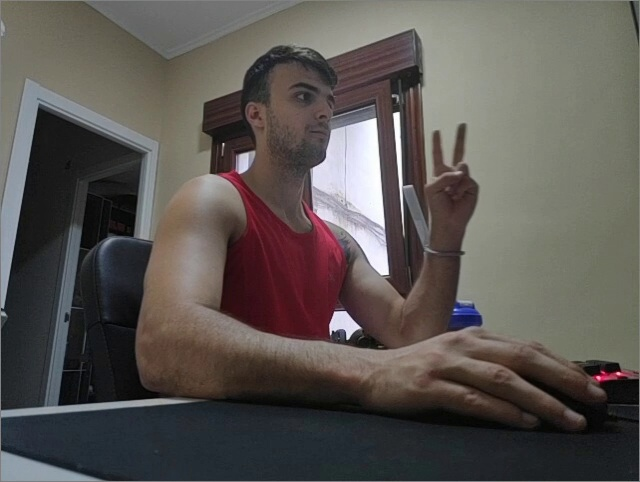Peace: (423, 123, 481, 236)
